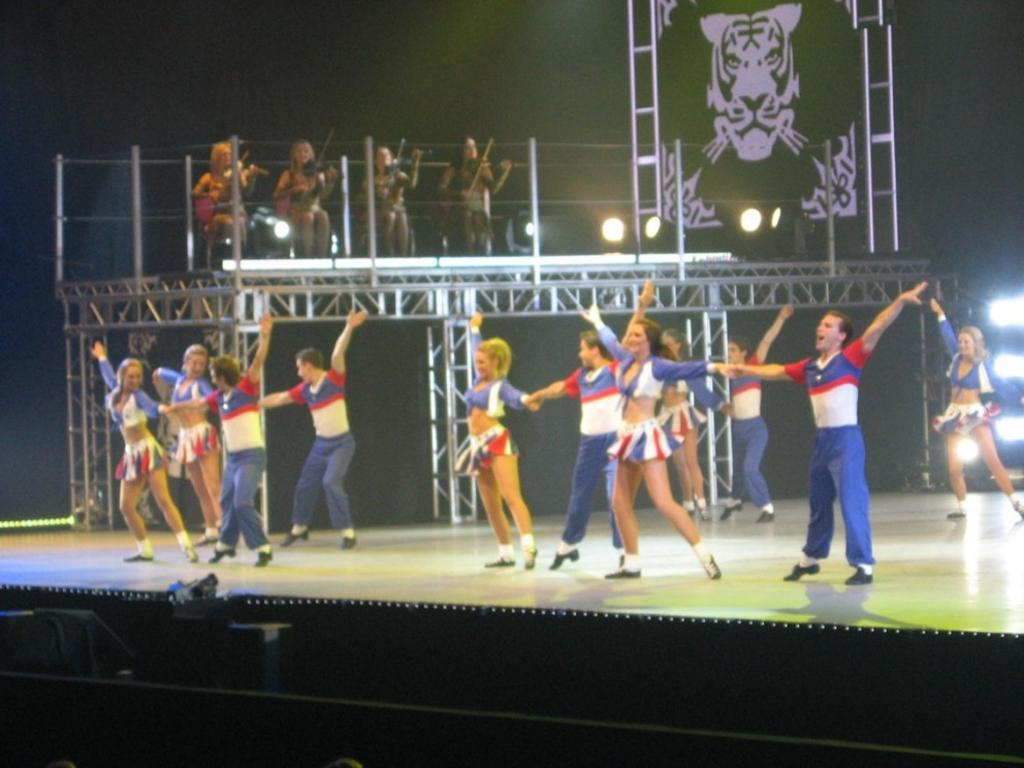face: (816, 317, 838, 349), (476, 351, 493, 380), (628, 325, 645, 352), (579, 341, 592, 369), (126, 367, 141, 391), (190, 354, 205, 378), (297, 361, 313, 383), (661, 337, 675, 359), (296, 144, 311, 164), (725, 345, 740, 365), (959, 335, 974, 355), (211, 370, 224, 392), (464, 142, 477, 160), (378, 151, 391, 168), (221, 150, 233, 166)
